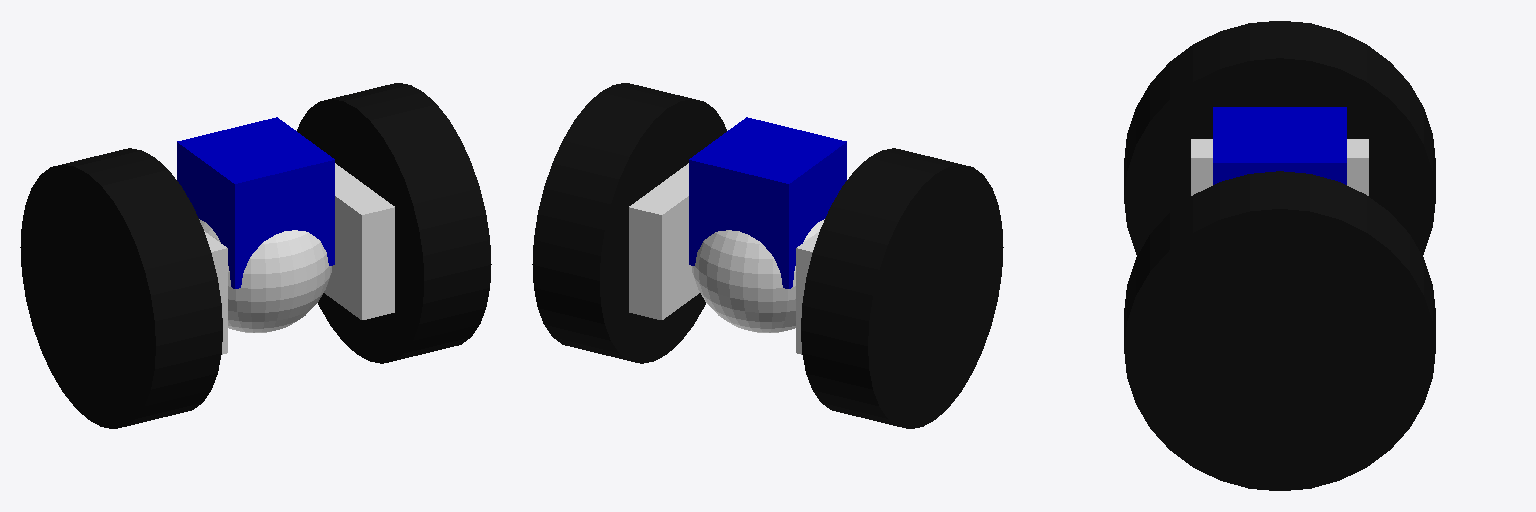
URDF robot description (mrs):
<?xml version="1.0" ?>
<!-- =================================================================================== -->
<!-- |    This document was autogenerated by xacro from 2W1JM.xacro                    | -->
<!-- |    EDITING THIS FILE BY HAND IS NOT RECOMMENDED                                 | -->
<!-- =================================================================================== -->
<robot name="mrs" xmlns:xacro="http://www.ros.org/wiki/xacro">
  <!-- Constants for robot -->
  <!-- Import all Gazebo-customization elements, including Gazebo colors -->
  <material name="Blue">
    <color rgba="0.0 0.0 0.8 1.0"/>
  </material>
  <material name="Grey">
    <color rgba="0.7 0.7 0.7 1.0"/>
  </material>
  <material name="Grey2">
    <color rgba="0.9 0.9 0.9 1.0"/>
  </material>
  <material name="Red">
    <color rgba="0.8 0.0 0.0 1.0"/>
  </material>
  <material name="White">
    <color rgba="1.0 1.0 1.0 1.0"/>
  </material>
  <material name="Black">
    <color rgba="0.1 0.1 0.1 1.0"/>
  </material>
  <material name="LightGrey">
    <color rgba="0.6 0.6 0.6 1.0"/>
  </material>
  <material name="Orange">
    <color rgba="1.0 0.4 0.0 1.0"/>
  </material>
  <material name="DarkGrey">
    <color rgba="0.3 0.3 0.3 1.0"/>
  </material>
  <material name="Green">
    <color rgba="0.0 1.0 0.0 1.0"/>
  </material>
  <material name="Caster">
    <texture filename="package://pr2_description/materials/textures/pr2_caster_texture.png"/>
  </material>
  <material name="Wheel_l">
    <texture filename="package://pr2_description/materials/textures/pr2_wheel_left.png"/>
  </material>
  <material name="Wheel_r">
    <texture filename="package://pr2_description/materials/textures/pr2_wheel_right.png"/>
  </material>
  <material name="RollLinks">
    <texture filename="package://pr2_description/materials/textures/pr2_wheel_left.png"/>
  </material>
  <!-- materials for visualization -->
  <!--
  <xacro:include filename="$(find mrs_description)/urdf/materials.urdf.xacro" />
-->
  <!-- For 1 Jm mobile robot -->
  <link name="base_footprint">
    <inertial>
      <mass value="0.1"/>
      <origin rpy="0 0 0" xyz="0 0 0"/>
      <inertia ixx="1.0" ixy="0.0" ixz="0.0" iyy="1.0" iyz="0.0" izz="1.0"/>
    </inertial>
    <visual>
      <origin rpy="0 0 0" xyz="0 0 0"/>
      <geometry>
        <box size="0.001 0.001 0.001"/>
      </geometry>
      <material name="Red"/>
    </visual>
    <collision>
      <geometry>
        <box size="0.001 0.001 0.001"/>
      </geometry>
    </collision>
  </link>
  <joint name="base_footprint_joint" type="fixed">
    <origin rpy="0 0 0" xyz="0 0 0"/>
    <child link="base_footprint_dummy"/>
    <parent link="base_footprint"/>
  </joint>
  <link name="base_footprint_dummy"/>
  <link name="1_pcm_link_1">
    <visual>
      <geometry>
        <box size="0.3 0.3 0.3"/>
      </geometry>
      <material name="Blue">
          </material>
    </visual>
    <collision>
      <geometry>
        <box size="0.3 0.3 0.3"/>
      </geometry>
    </collision>
    <inertial>
      <mass value="0.01"/>
      <inertia ixx="1" ixy="0.0" ixz="0.0" iyy="1" iyz="0.0" izz="1"/>
    </inertial>
  </link>
  <joint name="1_pcm_joint_1" type="fixed">
    <parent link="base_footprint"/>
    <child link="1_pcm_link_1"/>
    <origin rpy="0 0 0" xyz="0 0 0.15"/>
  </joint>
  <gazebo reference="1_pcm_link_1">
    <material>Gazebo/Blue</material>
    <selfCollide>false</selfCollide>
  </gazebo>
  <link name="1_jm_link2_0">
    <visual>
      <geometry>
        <sphere radius="0.2"/>
      </geometry>
      <material name="Grey2">
          </material>
    </visual>
    <collision>
      <geometry>
        <sphere radius="0.2"/>
      </geometry>
    </collision>
    <inertial>
      <mass value="1"/>
      <inertia ixx="1" ixy="0.0" ixz="0.0" iyy="1" iyz="0.0" izz="1"/>
    </inertial>
  </link>
  <joint name="1_jm_joint2_0" type="fixed">
    <parent link="base_footprint"/>
    <child link="1_jm_link2_0"/>
    <origin rpy="0 0 0" xyz="0.0 0 0"/>
    <axis xyz="0 0 1"/>
    <limit effort="100" lower="-1.57079632679" upper="1.57079632679" velocity="100"/>
  </joint>
  <gazebo reference="1_jm_link2_0">
    <material>Gazebo/Grey</material>
    <selfCollide>false</selfCollide>
  </gazebo>
  <link name="1_jm_link_1">
    <visual>
      <geometry>
        <box size="0.1 0.4 0.3"/>
      </geometry>
      <material name="Grey2">
        </material>
    </visual>
    <collision>
      <geometry>
        <box size="0.1 0.4 0.3"/>
      </geometry>
    </collision>
    <inertial>
      <mass value="1"/>
      <inertia ixx="1" ixy="0.0" ixz="0.0" iyy="1" iyz="0.0" izz="1"/>
    </inertial>
  </link>
  <joint name="1_jm_joint_1" type="continuous">
    <parent link="1_jm_link2_0"/>
    <child link="1_jm_link_1"/>
    <axis xyz="1 0 0"/>
    <origin rpy="0 -0.0 0" xyz="-0.25 0 0"/>
  </joint>
  <gazebo reference="1_jm_link_1">
    <material>Gazebo/Grey</material>
    <selfCollide>false</selfCollide>
  </gazebo>
  <link name="1_jm_link_2">
    <visual>
      <geometry>
        <box size="0.1 0.4 0.3"/>
      </geometry>
      <material name="Grey2">
        </material>
    </visual>
    <collision>
      <geometry>
        <box size="0.1 0.4 0.3"/>
      </geometry>
    </collision>
    <inertial>
      <mass value="1"/>
      <inertia ixx="1" ixy="0.0" ixz="0.0" iyy="1" iyz="0.0" izz="1"/>
    </inertial>
  </link>
  <joint name="1_jm_joint_2" type="continuous">
    <parent link="1_jm_link2_0"/>
    <child link="1_jm_link_2"/>
    <axis xyz="1 0 0"/>
    <origin rpy="0 -0.0 0" xyz="0.25 0 0"/>
  </joint>
  <gazebo reference="1_jm_link_2">
    <material>Gazebo/Grey</material>
    <selfCollide>false</selfCollide>
  </gazebo>
  <gazebo>
    <plugin filename="libgazebo_ros_diff_drive.so" name="differential_drive_controller">
      <alwaysOn>true</alwaysOn>
      <updateRate/>
      <leftJoint>1_jm_joint_1</leftJoint>
      <rightJoint>1_jm_joint_2</rightJoint>
      <wheelSeparation>0.6</wheelSeparation>
      <wheelDiameter>0.6</wheelDiameter>
      <torque>20</torque>
      <commandTopic>mrs/cmd_vel</commandTopic>
      <odometryTopic>odom</odometryTopic>
      <odometryFrame>odom</odometryFrame>
      <robotBaseFrame>base_footprint</robotBaseFrame>
    </plugin>
  </gazebo>
  <link name="1_sm_wheel_link_1">
    <visual>
      <geometry>
        <cylinder length="0.2" radius="0.35"/>
      </geometry>
      <material name="Black">
        </material>
    </visual>
    <collision>
      <geometry>
        <cylinder length="0.2" radius="0.35"/>
      </geometry>
    </collision>
    <inertial>
      <mass value="1"/>
      <inertia ixx="1" ixy="0.0" ixz="0.0" iyy="1" iyz="0.0" izz="1"/>
    </inertial>
  </link>
  <joint name="1_sm_wheel_joint_1" type="fixed">
    <parent link="1_jm_link_1"/>
    <child link="1_sm_wheel_link_1"/>
    <origin rpy=" 0 1.57079632679 0" xyz="-0.15 0 0"/>
  </joint>
  <gazebo reference="1_sm_wheel_link_1">
    <material>Gazebo/White</material>
    <selfCollide>false</selfCollide>
  </gazebo>
  <link name="1_sm_wheel_link_2">
    <visual>
      <geometry>
        <cylinder length="0.2" radius="0.35"/>
      </geometry>
      <material name="Black">
        </material>
    </visual>
    <collision>
      <geometry>
        <cylinder length="0.2" radius="0.35"/>
      </geometry>
    </collision>
    <inertial>
      <mass value="1"/>
      <inertia ixx="1" ixy="0.0" ixz="0.0" iyy="1" iyz="0.0" izz="1"/>
    </inertial>
  </link>
  <joint name="1_sm_wheel_joint_2" type="fixed">
    <parent link="1_jm_link_2"/>
    <child link="1_sm_wheel_link_2"/>
    <origin rpy=" 0 1.57079632679 0" xyz="0.15 0 0"/>
  </joint>
  <gazebo reference="1_sm_wheel_link_2">
    <material>Gazebo/White</material>
    <selfCollide>false</selfCollide>
  </gazebo>
  <gazebo>
    <!--
    <plugin name="gazebo_ros_control" filename="libgazebo_ros_control.so">
      <robotNamespace>/mrs</robotNamespace>
    </plugin>
-->
  </gazebo>
</robot>

--- Facts derived from the render (not from the file) ---
The picture shows the robot from 3 angles, left to right: view 1: azimuth 30°, elevation 25°; view 2: azimuth 150°, elevation 25°; view 3: azimuth 270°, elevation 25°; orthographic projection.
Robot: mrs — 8 links, 7 joints (2 continuous, 5 fixed); root link base_footprint; default pose: all joints at 0.
Visible links, largest first — view 1: 1_sm_wheel_link_1, 1_sm_wheel_link_2, 1_pcm_link_1, 1_jm_link_2, 1_jm_link2_0, 1_jm_link_1; view 2: 1_sm_wheel_link_1, 1_sm_wheel_link_2, 1_pcm_link_1, 1_jm_link_2, 1_jm_link2_0, 1_jm_link_1; view 3: 1_sm_wheel_link_2, 1_sm_wheel_link_1, 1_pcm_link_1, 1_jm_link_1.
Boxes of the visible links, x1,y1,x2,y2 form: 1_sm_wheel_link_1: (20,148,222,428); 1_sm_wheel_link_2: (297,83,491,363); 1_pcm_link_1: (177,117,334,288); 1_jm_link_2: (324,163,394,319); 1_jm_link2_0: (199,219,331,332); 1_jm_link_1: (204,231,227,354); 1_sm_wheel_link_1: (801,148,1003,428); 1_sm_wheel_link_2: (532,83,726,363); 1_pcm_link_1: (689,117,846,288); 1_jm_link_2: (629,163,699,319); 1_jm_link2_0: (692,219,824,332); 1_jm_link_1: (796,231,819,354); 1_sm_wheel_link_2: (1124,171,1435,490); 1_sm_wheel_link_1: (1124,21,1435,255); 1_pcm_link_1: (1213,107,1346,184); 1_jm_link_1: (1191,139,1368,195).
Size in the robot's own frame: 1 by 0.7 by 0.7 metres.
Geometry: primitives only (box / cylinder / sphere), no mesh files.
